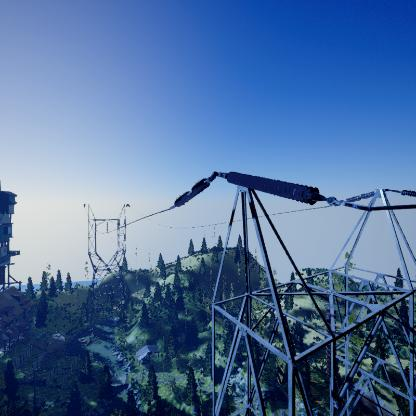insulator: (225, 170, 320, 208), (174, 177, 211, 208)
tower: (77, 197, 135, 320)
